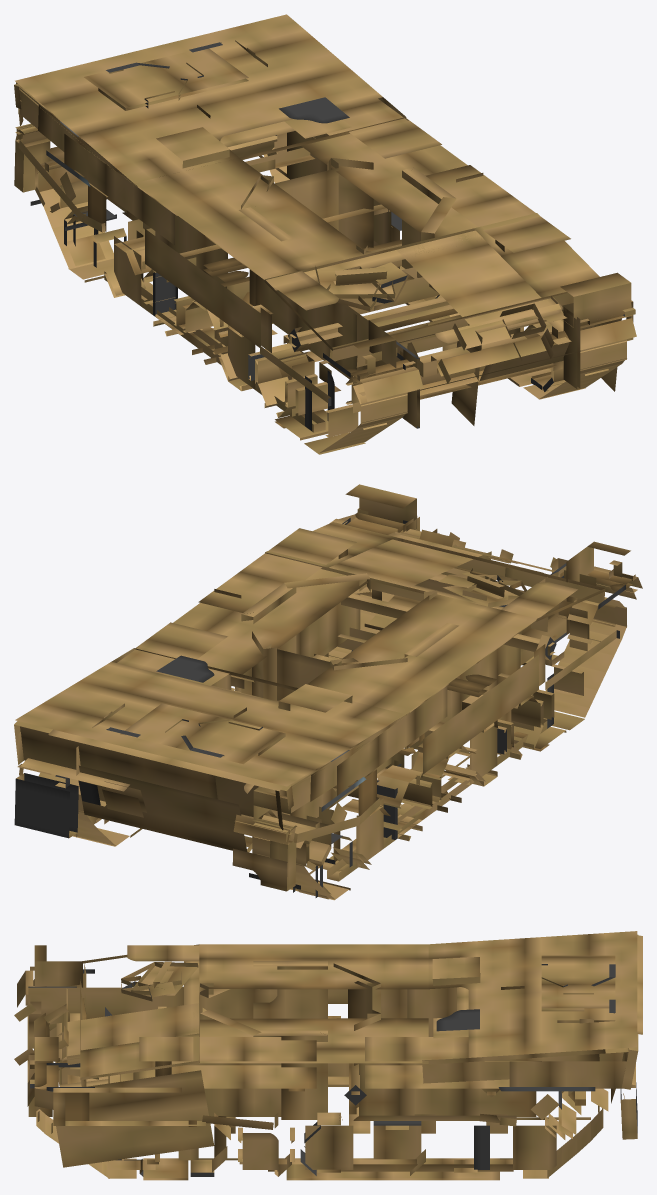
The model's file is leopard2.obj.
The picture shows the model from 3 angles, top to bottom: view 1: azimuth 30°, elevation 25°; view 2: azimuth 150°, elevation 25°; view 3: azimuth 270°, elevation 25°; orthographic projection. The views are drawn at different scales.
Parts seen in each view (by area): view 1: bofy, cube.190, w3, cube.222, w7, w2, w4, w6, w8, w9, w5, w11; view 2: bofy, cube.190, w6, w4, w7, w9, w3, w1, w2, w5, cube.222; view 3: bofy, cube.222, w14, w17, w15, w13, w12, w16, cube.198, w18, w11.
Boxes of the visible parts, bbox=[...] form: bofy: bbox=[14, 14, 636, 428]; cube.190: bbox=[37, 158, 407, 454]; w3: bbox=[255, 340, 317, 417]; cube.222: bbox=[271, 171, 626, 399]; w7: bbox=[104, 230, 151, 305]; w2: bbox=[295, 370, 358, 437]; w4: bbox=[218, 325, 277, 391]; w6: bbox=[144, 269, 202, 336]; w8: bbox=[64, 206, 126, 267]; w9: bbox=[30, 160, 116, 230]; w5: bbox=[183, 298, 227, 364]; w11: bbox=[524, 319, 565, 391]; bofy: bbox=[14, 484, 642, 891]; cube.190: bbox=[254, 599, 626, 900]; w6: bbox=[377, 764, 432, 841]; w4: bbox=[445, 723, 506, 786]; w7: bbox=[331, 798, 390, 869]; w9: bbox=[249, 813, 335, 889]; w3: bbox=[497, 693, 543, 759]; w1: bbox=[567, 597, 615, 651]; w2: bbox=[534, 664, 583, 728]; w5: bbox=[410, 743, 470, 812]; cube.222: bbox=[73, 589, 394, 846]; bofy: bbox=[14, 931, 642, 1167]; cube.222: bbox=[36, 1106, 576, 1180]; w14: bbox=[300, 1112, 353, 1175]; w17: bbox=[513, 1113, 565, 1169]; w15: bbox=[373, 1121, 425, 1175]; w13: bbox=[238, 1113, 294, 1176]; w12: bbox=[178, 1113, 230, 1176]; w16: bbox=[454, 1125, 489, 1172]; cube.198: bbox=[577, 1088, 608, 1153]; w18: bbox=[558, 1091, 599, 1138]; w11: bbox=[107, 1154, 159, 1176].
Size of the model in its own units: 4.66 by 2.32 by 9.76.
